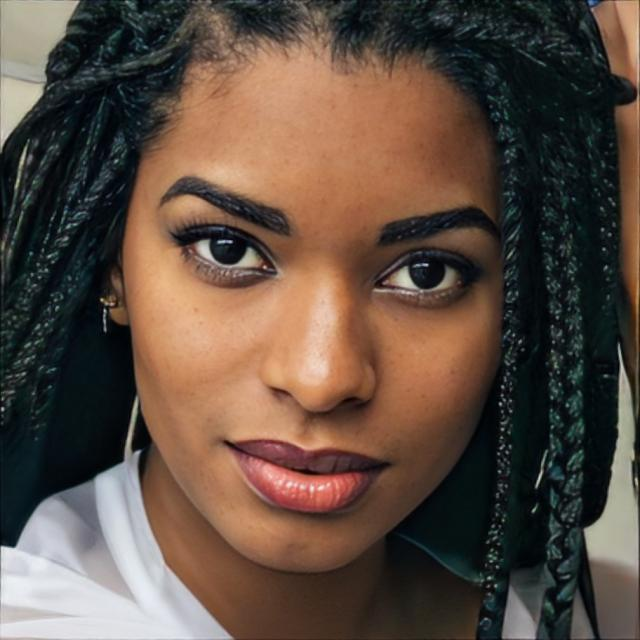content: (120, 43, 507, 576)
